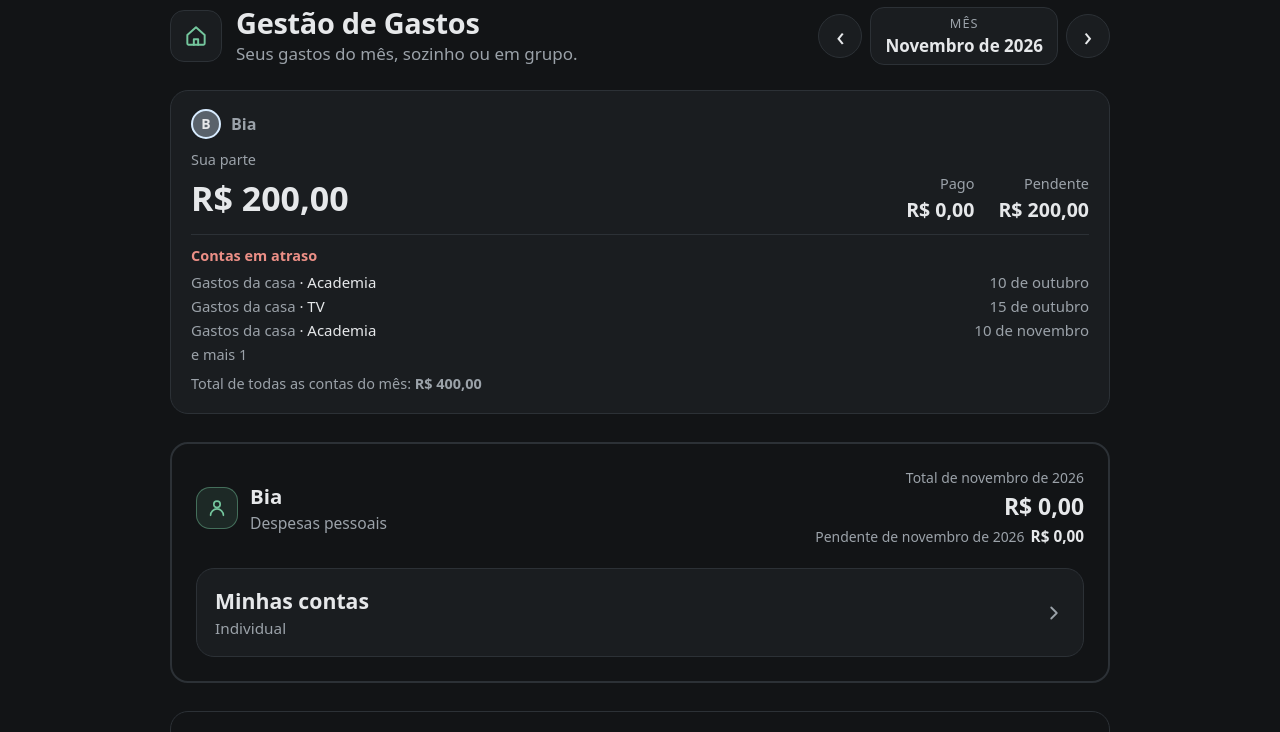
Test: virada do mês com o app aberto › vendo outro mês: a seleção permanece nele e o novo mês é gravado mesmo assim
What coordinates should you click on to do the following:
click the button "Minhas contas Individual"
I would click on:
 (292, 601)
Its box is [197,569,1083,656].
(page scrolled)
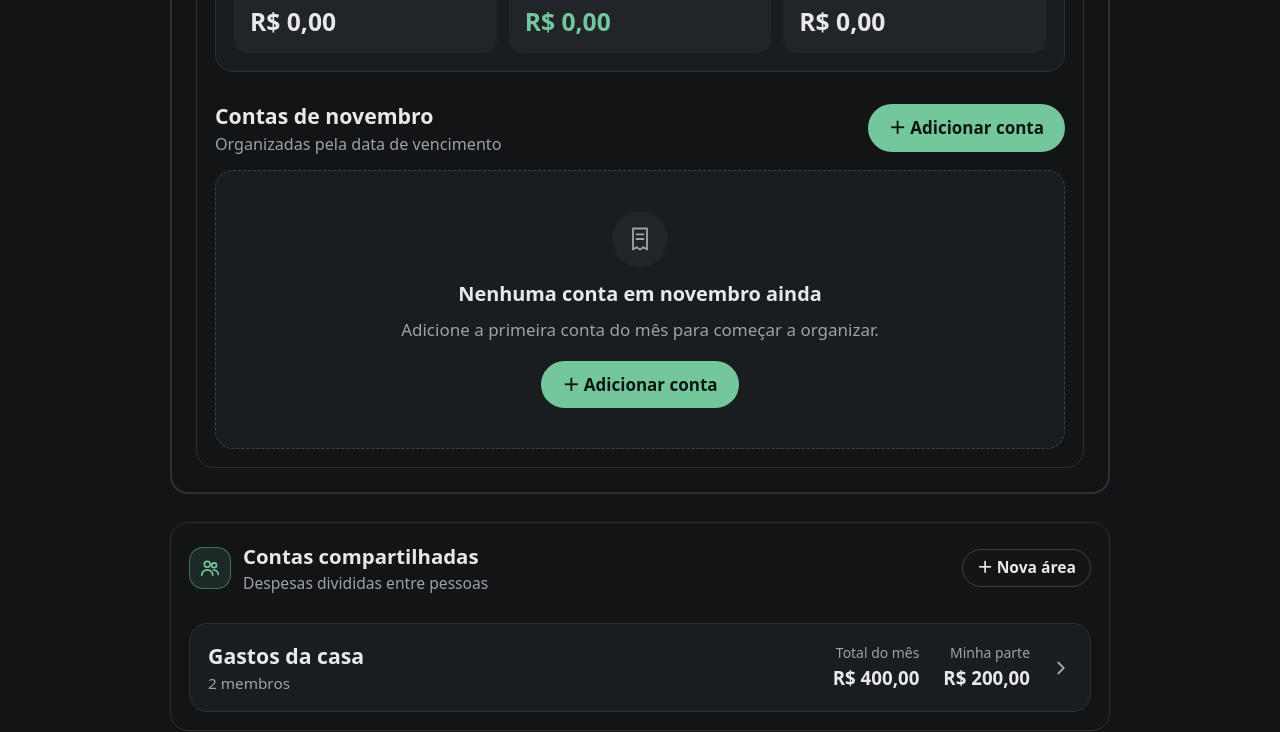
What coordinates should you click on to do the following:
click the button that starts with "Gastos da casa"
I would click on:
 (286, 656)
Its box is [190,624,1090,711].
(page scrolled)
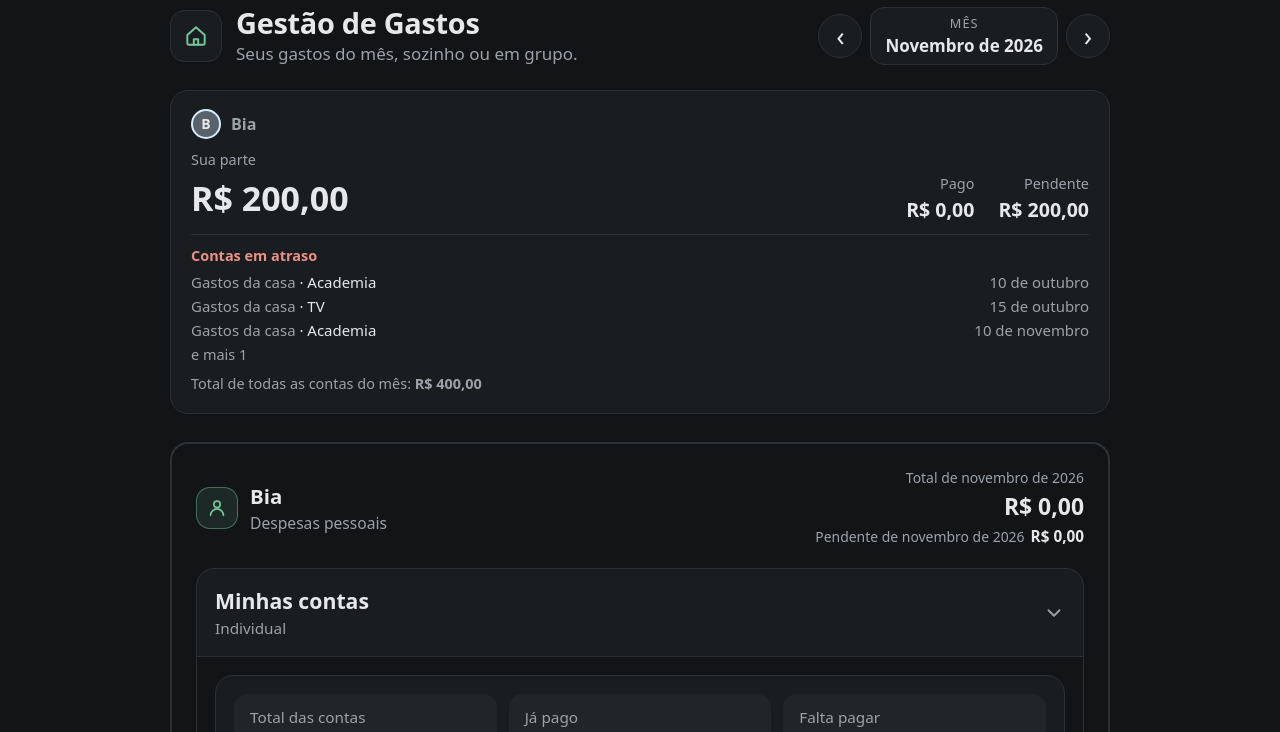
What coordinates should you click on to do the following:
click the button named "Próximo mês"
I would click on:
 (1088, 36)
Its box is [1066,14,1110,58].
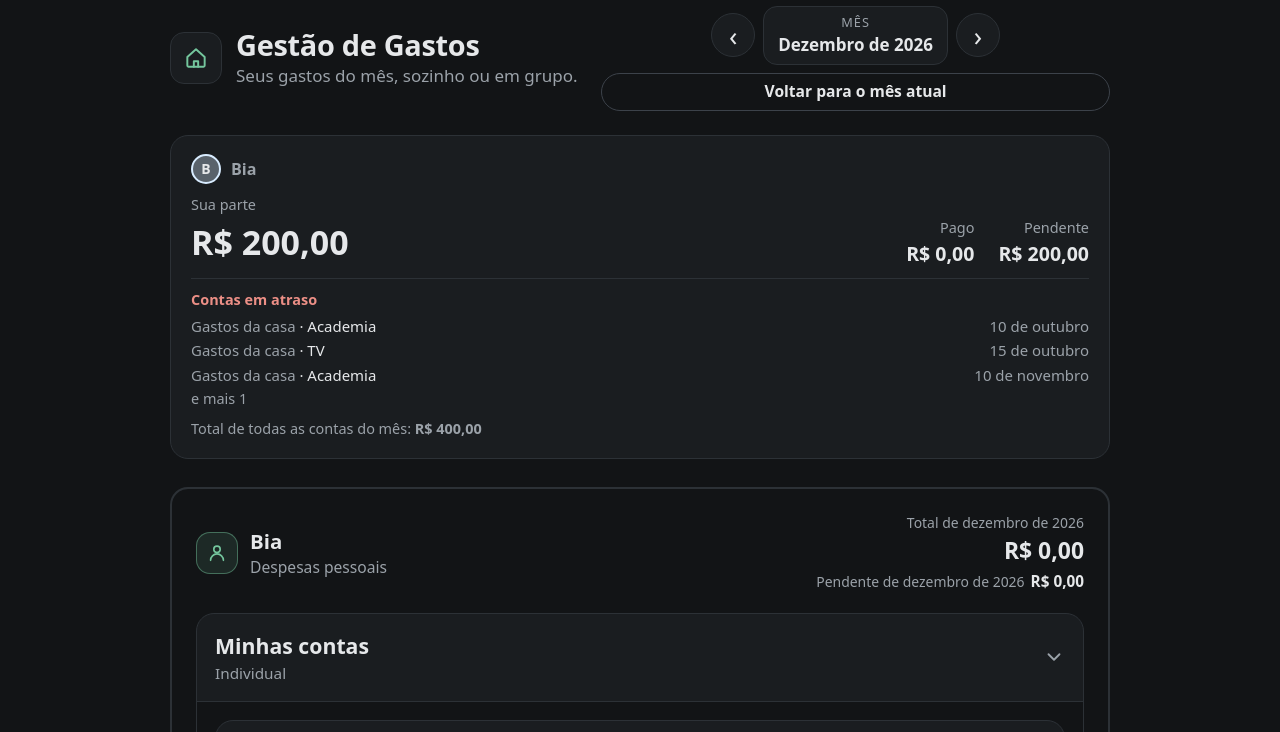
What coordinates should you click on to do the following:
click the button named "Próximo mês"
I would click on:
 (978, 35)
Its box is [956,13,1000,57].
Wait 3000 ms
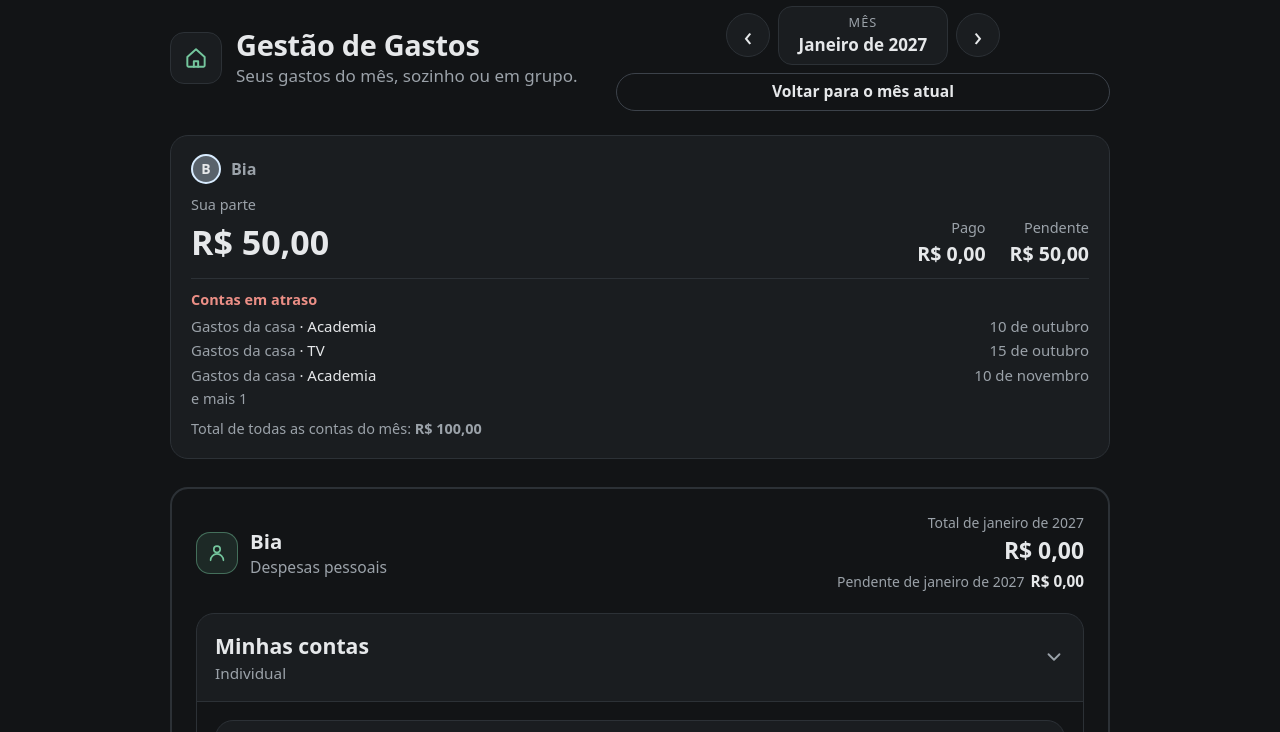
expect the text "Janeiro de 2027" is shown: met, box [799,32,927,58]
